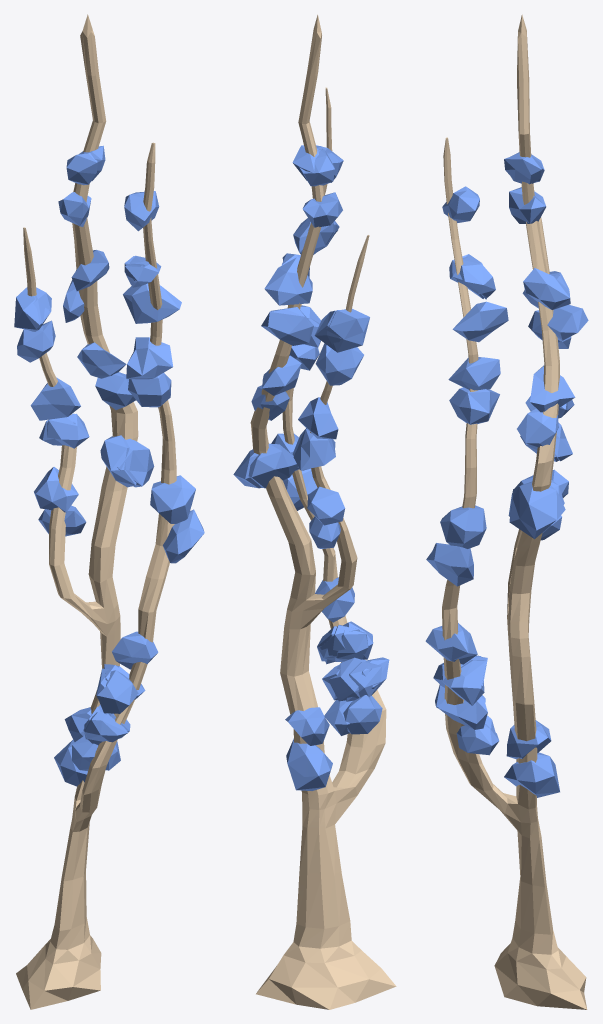
The model's file is bizarretree2.obj.
3 views of the same model, side by side, from view 1: azimuth 30°, elevation 25°; view 2: azimuth 150°, elevation 25°; view 3: azimuth 270°, elevation 25° (orthographic).
Parts seen in each view (by area): view 1: Tree_Leaves_0, Tree_Trunk_0; view 2: Tree_Trunk_0, Tree_Leaves_0; view 3: Tree_Leaves_0, Tree_Trunk_0.
Part boxes in pixels (x1,y1,x2,y2): Tree_Leaves_0: (14, 145, 204, 786); Tree_Trunk_0: (16, 14, 176, 1009); Tree_Trunk_0: (250, 14, 396, 1009); Tree_Leaves_0: (233, 145, 389, 790); Tree_Leaves_0: (425, 152, 588, 797); Tree_Trunk_0: (442, 14, 587, 1009).
Bounding box in the file's own units: 1.65 × 10.42 × 1.56.
